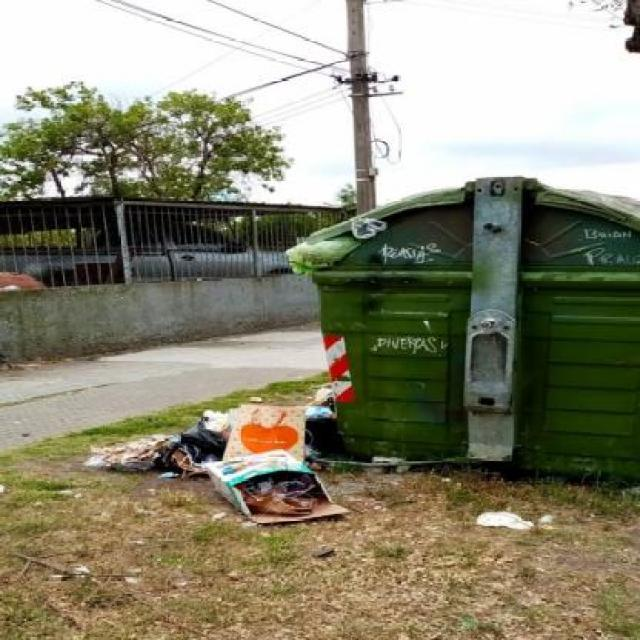garbage: (102, 391, 408, 530), (479, 493, 566, 536)
